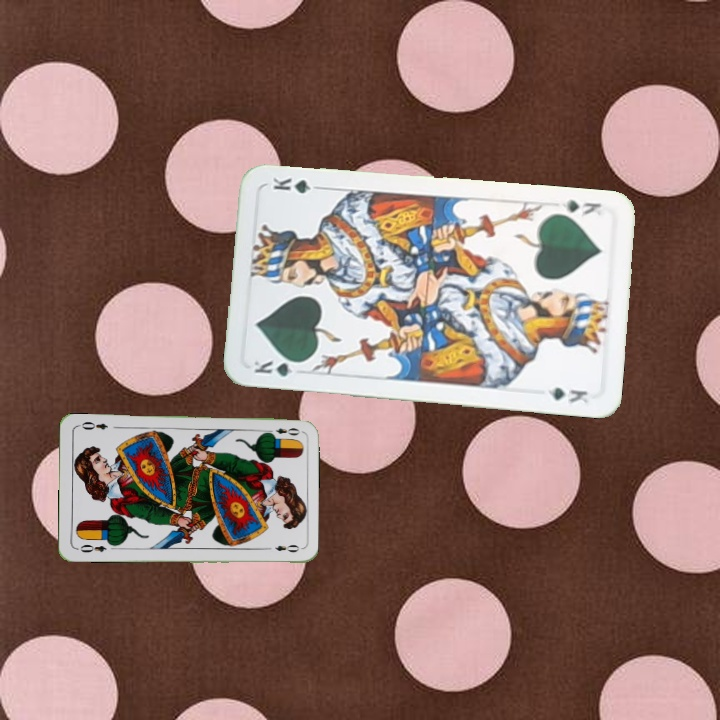EO: (263, 424, 302, 438), (76, 540, 109, 555)
GK: (250, 356, 307, 379), (557, 196, 604, 219)
